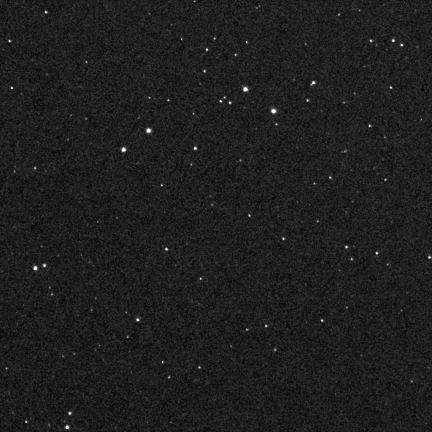blob: (146, 128, 152, 134), (243, 87, 248, 92)
